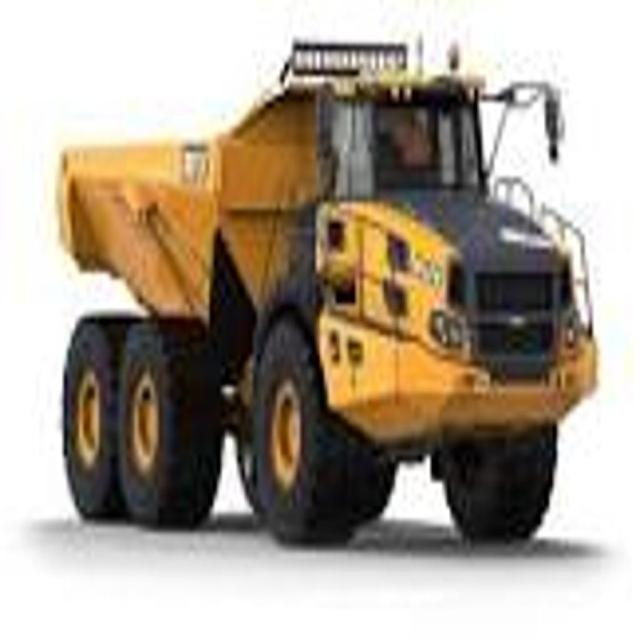dump_truck: (55, 38, 594, 568)
